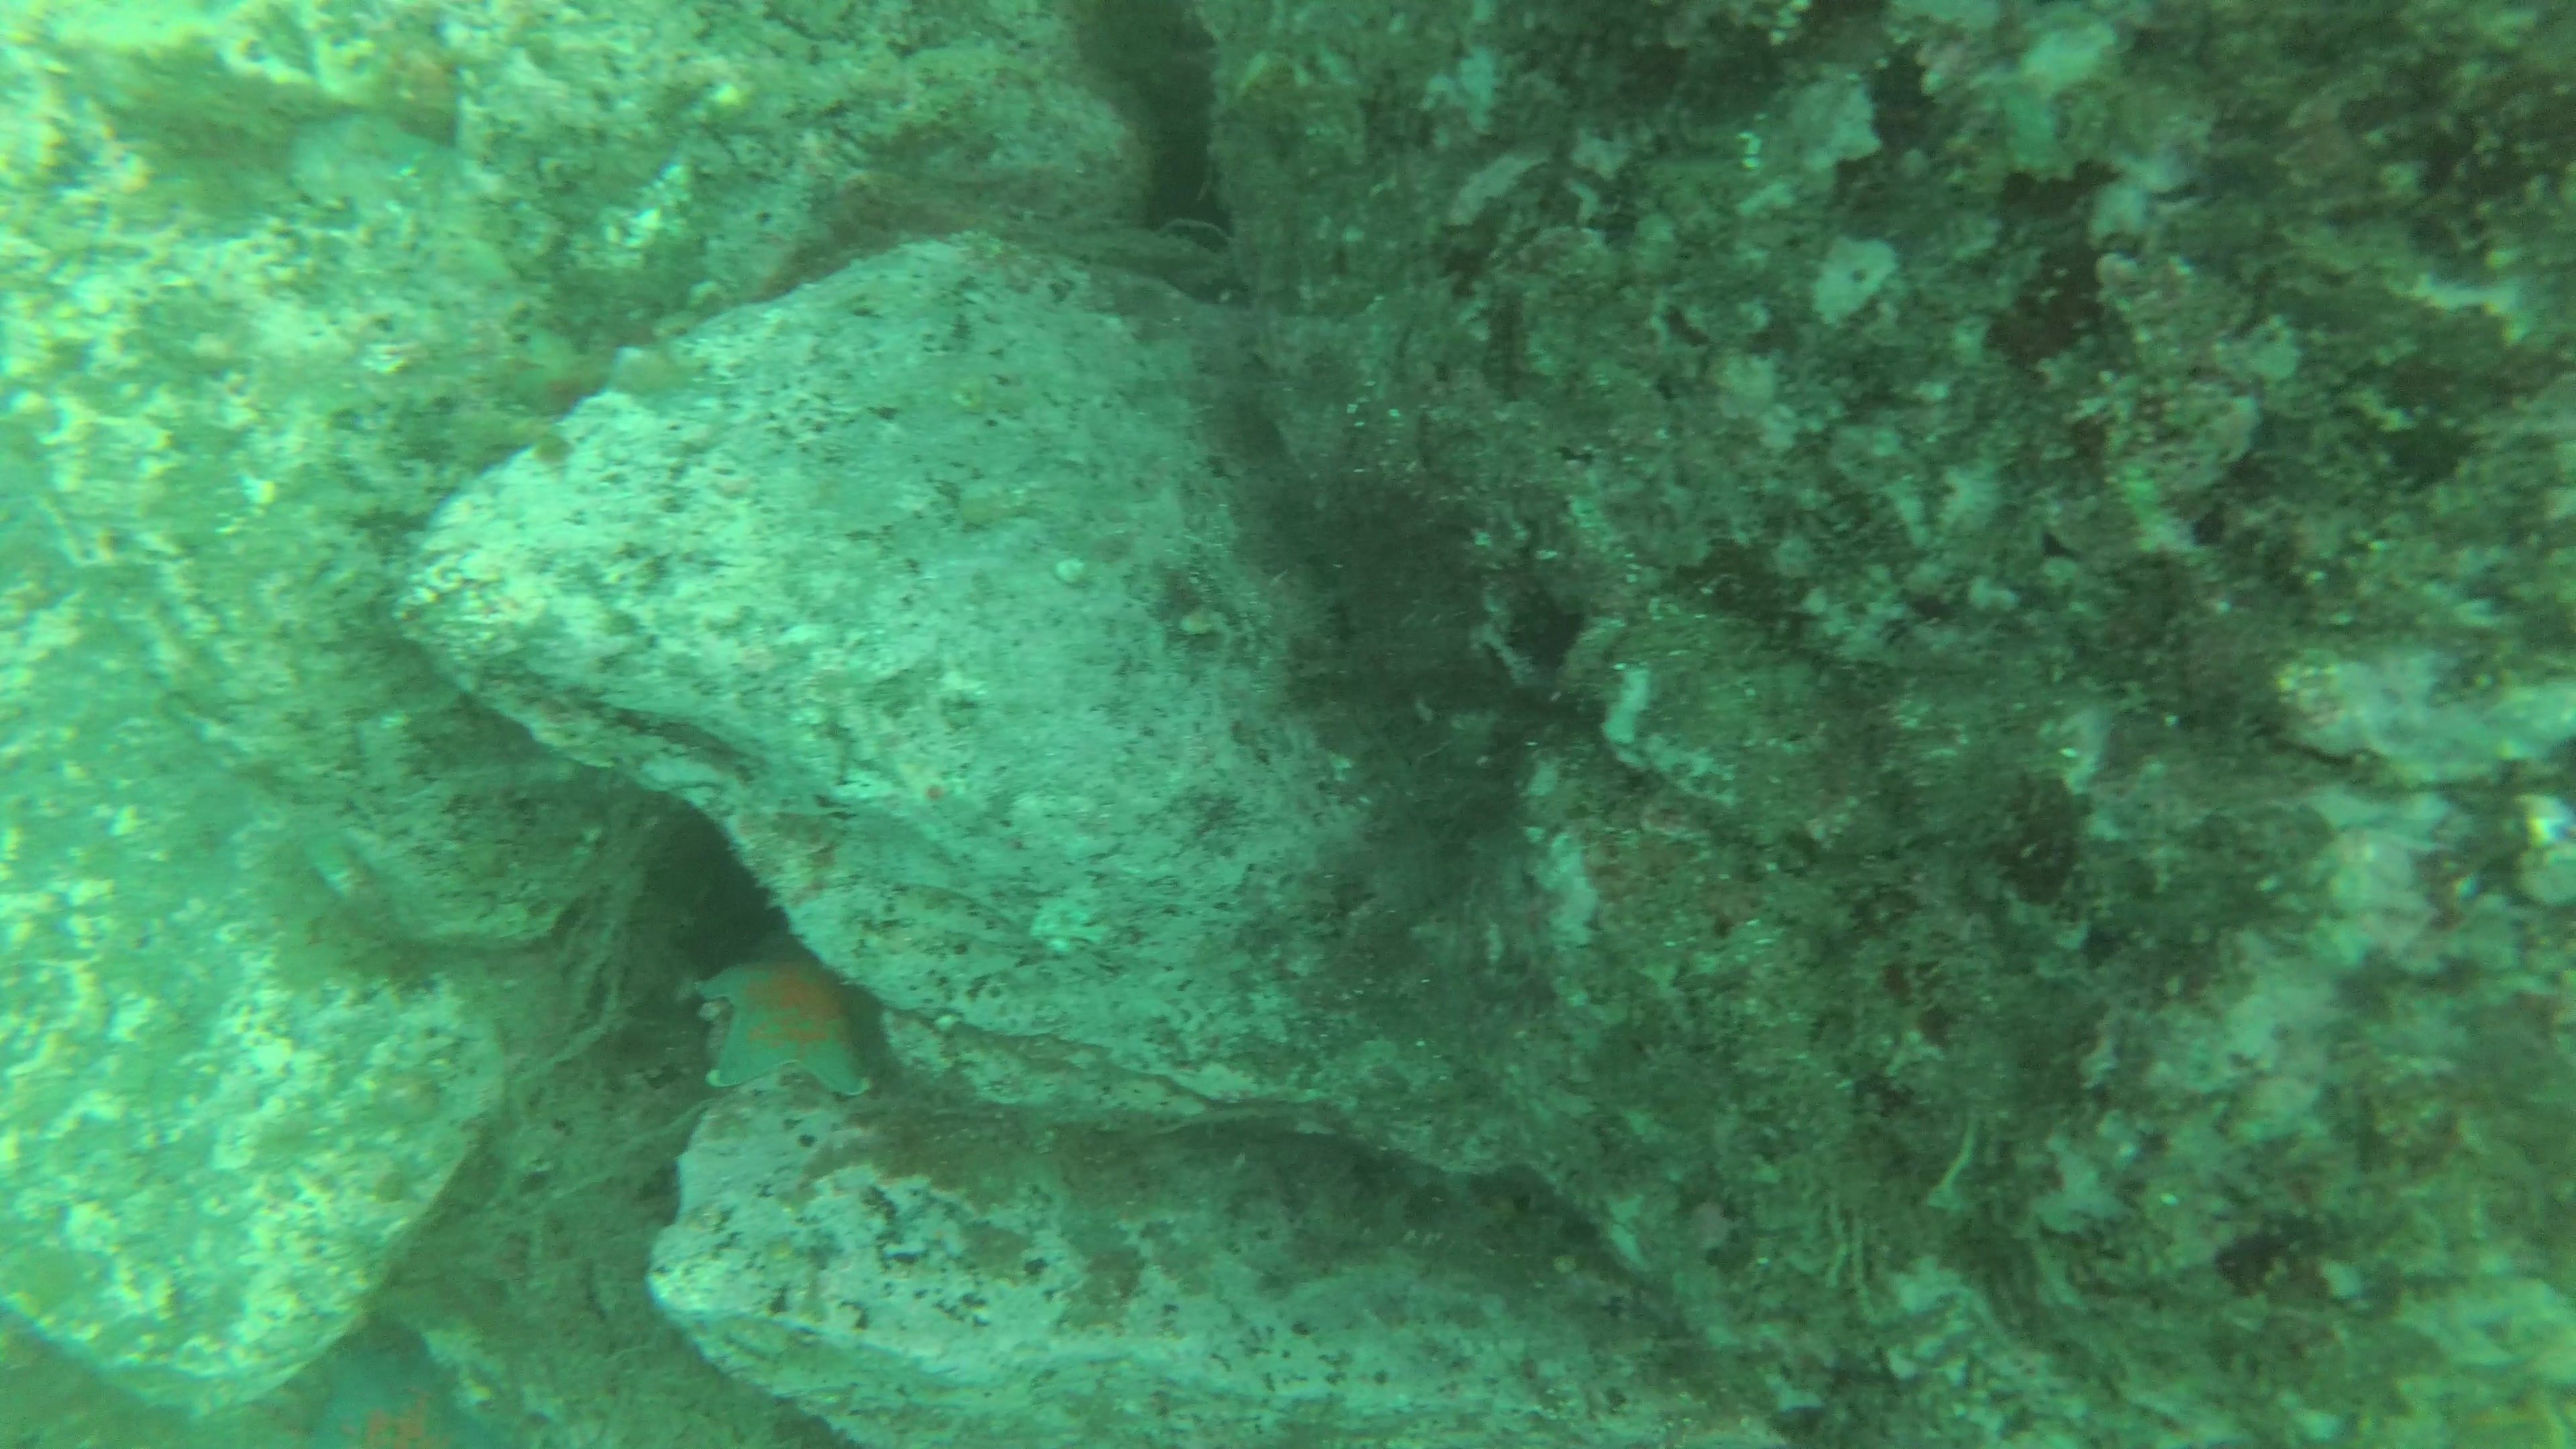starfish: (681, 929, 897, 1115), (281, 1355, 520, 1449)
